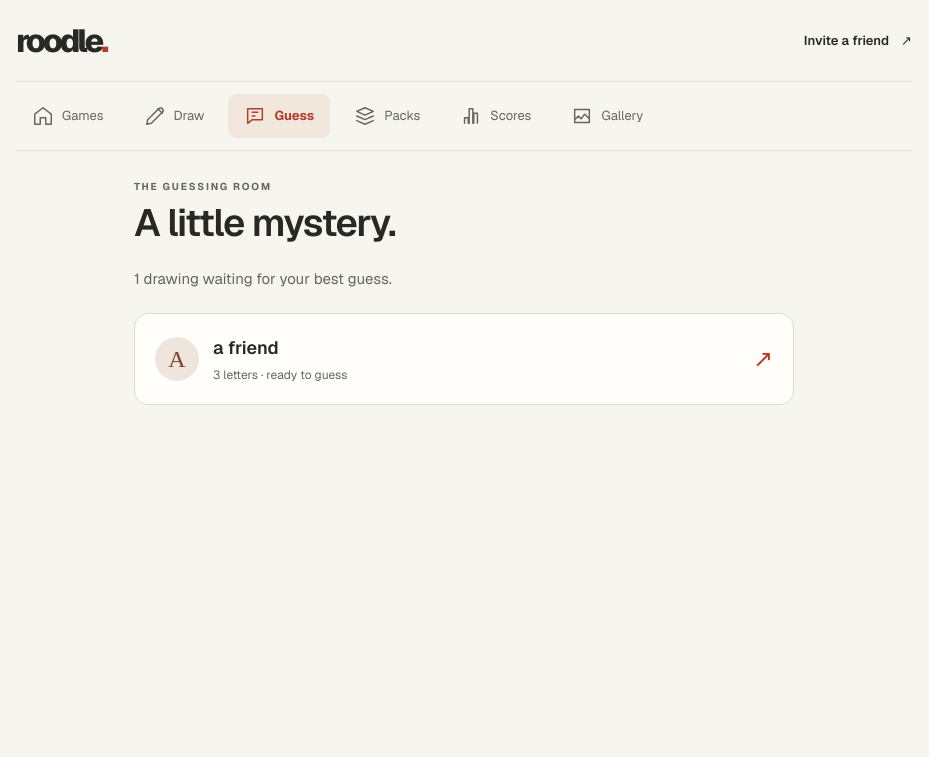
it: PlayPage › reveals the word on give up (GUESS-04)
Click the button with aria-label "a drawing to guess".
click(177, 359)  # box top-left (134, 312), bottom-right (794, 404)
(page scrolled)
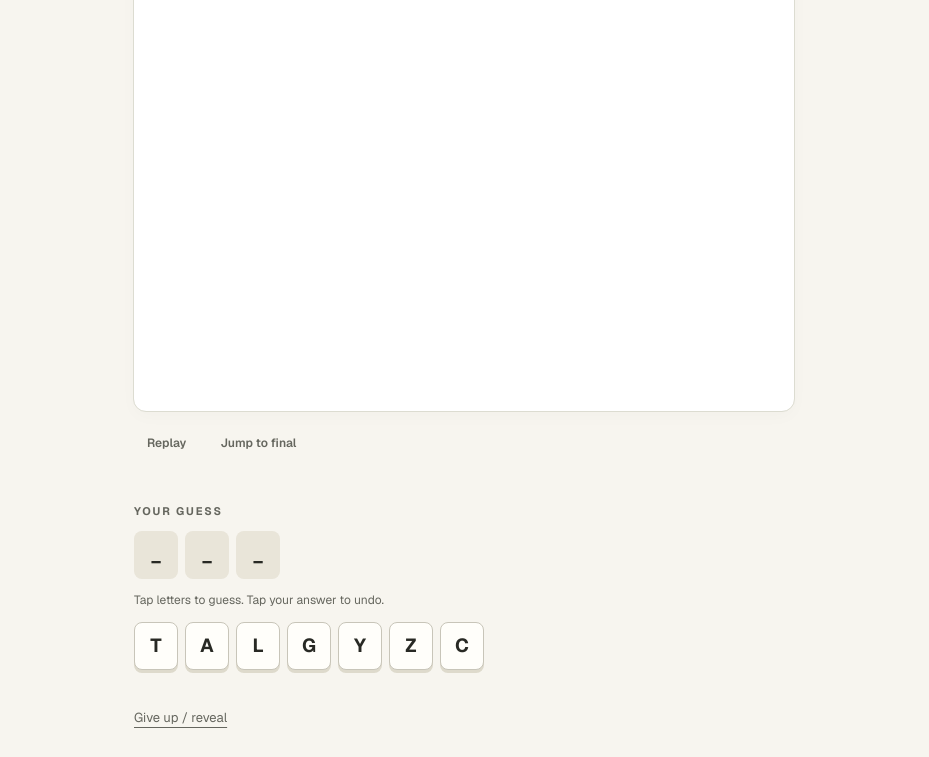
Click the button "Give up / reveal".
click(181, 718)  # box top-left (134, 696), bottom-right (227, 740)
(page scrolled)
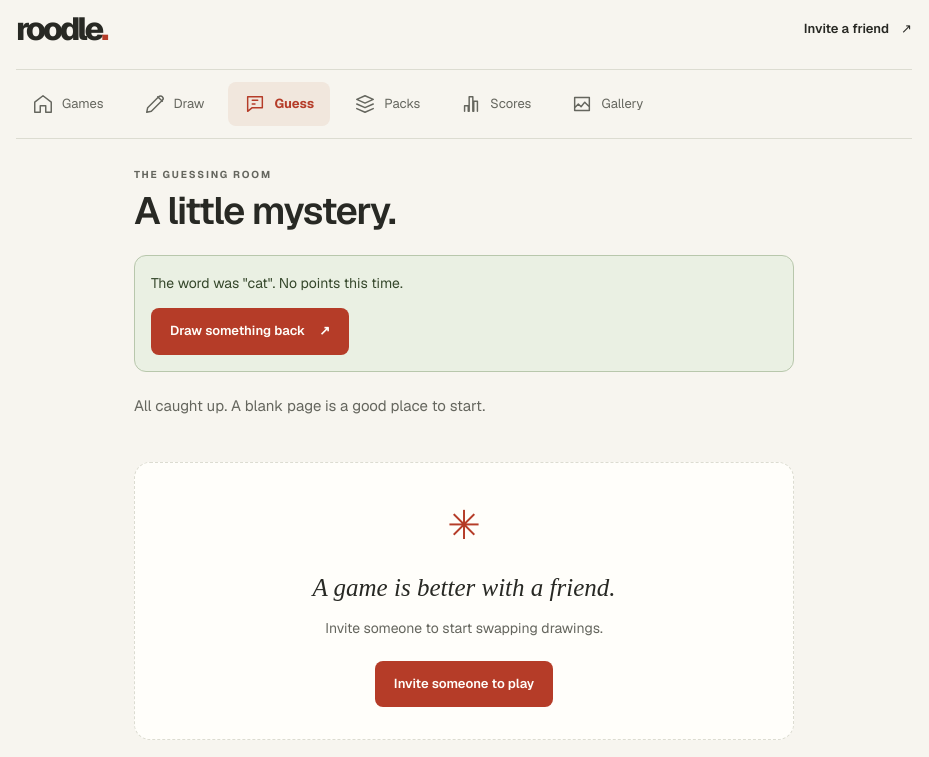
expect the text "The word was \"cat\". No points this time." is shown: met, box top-left (151, 274), bottom-right (403, 292)
